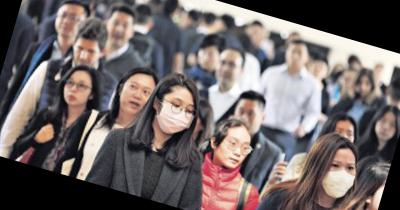with_mask: (152, 91, 198, 141), (319, 154, 360, 200)
without_mask: (211, 131, 252, 172), (115, 77, 154, 118), (59, 74, 93, 109), (51, 7, 84, 41), (231, 102, 263, 136), (102, 15, 133, 49), (213, 55, 242, 88), (70, 42, 100, 70), (372, 113, 400, 143), (281, 44, 309, 71), (194, 46, 220, 72), (353, 78, 374, 99)
